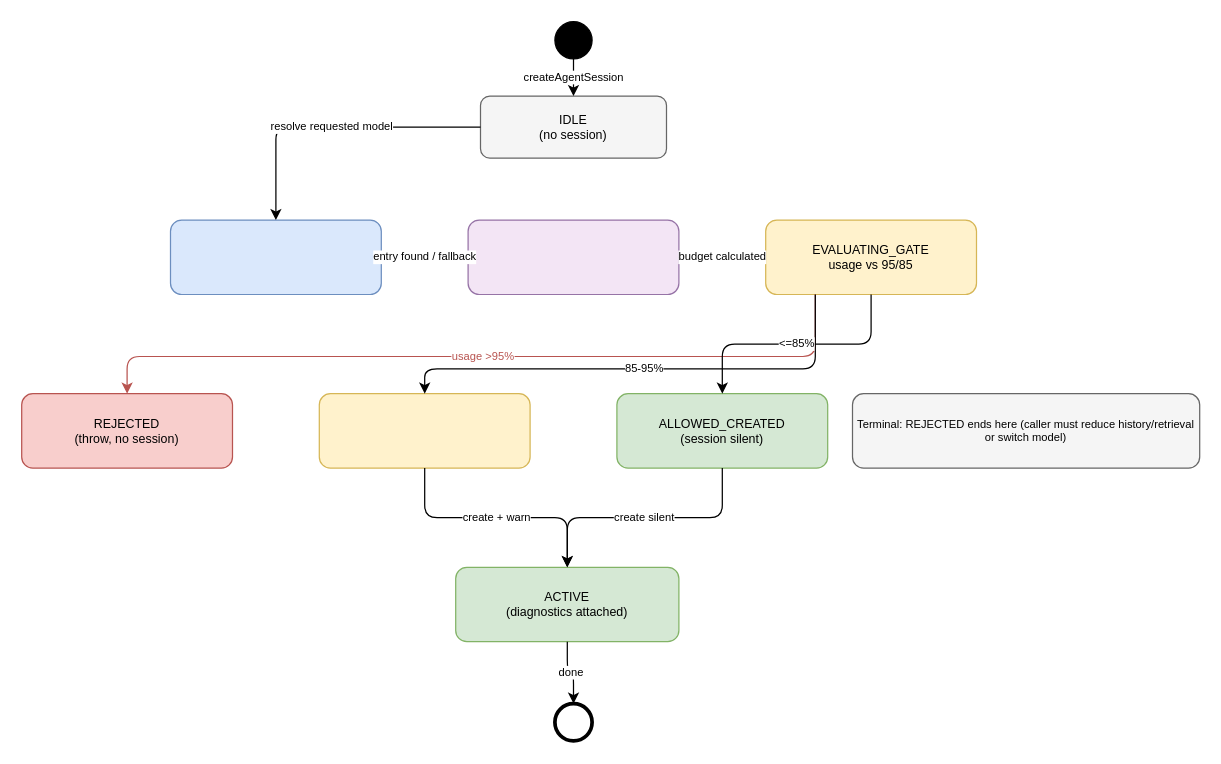
The diagram is 1221 pixels wide and 764 high, and some of its shapes have lost their labels. Each missing label, with the box of its shape:
ESTIMATING_BUDGET countTokens batch: (467, 219, 679, 294)
RESOLVING_MODEL registry lookup: (169, 219, 381, 294)
WARN_CREATED (session + warn): (318, 392, 530, 468)
